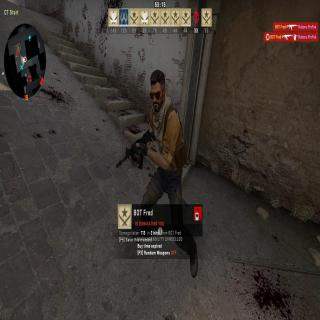T-Body: (133, 71, 196, 277)
T-Head: (150, 70, 166, 114)
